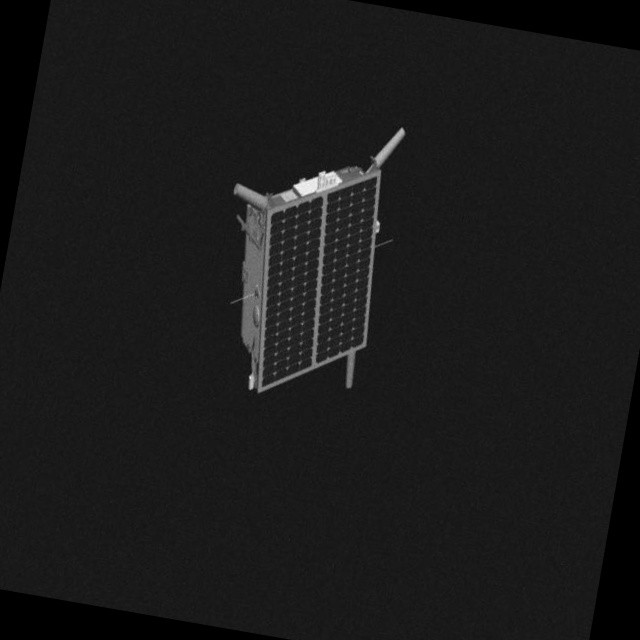medium_debris: (190, 89, 418, 419)
